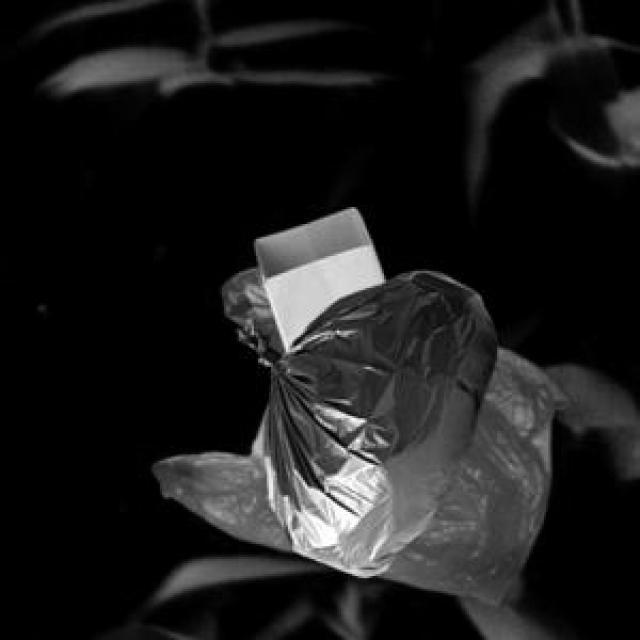miscellaneous trash: (235, 267, 493, 572)
paper: (252, 205, 382, 348)
